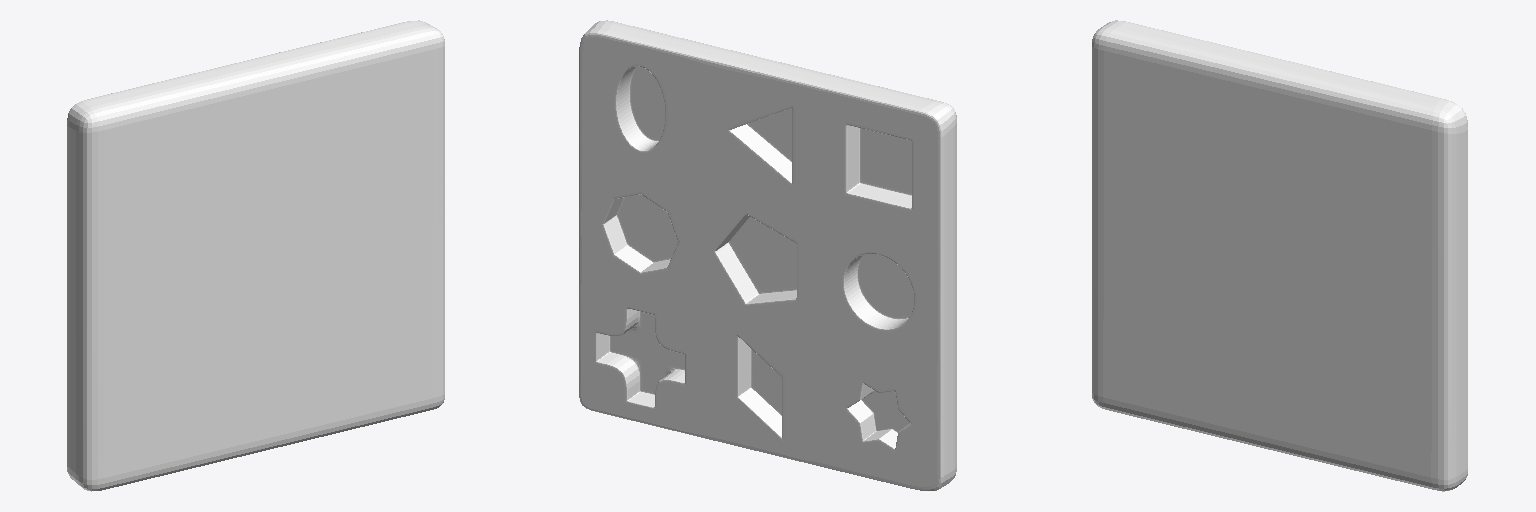
robot.urdf — cube.urdf:
<?xml version="0.0" ?>
<robot name="cube.urdf">
  <link name="baseLink">
    <contact>
      <lateral_friction value="1.0"/>
  <!--     <rolling_friction value="0.0"/>
      <spinning_friction value="0.01">
      <inertia_scaling value="3.0"/>
      <contact_cfm value="0.0"/>
      <contact_erp value="1.0"/> -->
    </contact>
    <inertial>
      <origin rpy="0 0 0" xyz="0 0 0"/>
       <mass value=".9"/>
       <inertia ixx="1" ixy="0" ixz="0" iyy="1" iyz="0" izz="1"/>
    </inertial>
    <visual>
      <origin rpy="0 0 0" xyz="0 0 0"/>
        <geometry>
      <mesh filename="base.obj" scale=".06 .06 .06"/>
        </geometry>
        <material name="white">
          <color rgba="1 1 1 1"/>
        </material>
    </visual>

    <collision>
      <geometry>
        <mesh filename="base-collision01.obj"/>
      </geometry>
      <origin rpy="0 0 0" xyz="0 0 0"/>
    </collision>

    <collision>
      <geometry>
        <mesh filename="base-collision02.obj"/>
      </geometry>
      <origin rpy="0 0 0" xyz="0 0 0"/>
    </collision>

    <collision>
      <geometry>
        <mesh filename="base-collision03.obj"/>
      </geometry>
      <origin rpy="0 0 0" xyz="0 0 0"/>
    </collision>

    <collision>
      <geometry>
        <mesh filename="base-collision04.obj"/>
      </geometry>
      <origin rpy="0 0 0" xyz="0 0 0"/>
    </collision>

    <collision>
      <geometry>
        <mesh filename="base-collision05.obj"/>
      </geometry>
      <origin rpy="0 0 0" xyz="0 0 0"/>
    </collision>

    <collision>
      <geometry>
        <mesh filename="base-collision06.obj"/>
      </geometry>
      <origin rpy="0 0 0" xyz="0 0 0"/>
    </collision>

<!--     <collision>
        <origin rpy="0 0 0" xyz="0 0 0"/>
        <geometry>
          <mesh filename="base.obj" scale=".06 .06 .06"/>
        </geometry>
    </collision> -->
  </link>
</robot>

--- Facts derived from the render (not from the file) ---
The picture shows the robot from 3 angles, left to right: view 1: azimuth 30°, elevation 25°; view 2: azimuth 150°, elevation 25°; view 3: azimuth 330°, elevation 25°; orthographic projection.
Model cube.urdf with 1 links and 0 joints (none), rooted at baseLink, posed all joints at 0.
Links seen in each view (by area): view 1: baseLink; view 2: baseLink; view 3: baseLink.
Boxes of the visible links, left/top/right/bottom form: baseLink: left=67, top=20, right=444, bottom=491; baseLink: left=579, top=20, right=956, bottom=490; baseLink: left=1092, top=20, right=1467, bottom=491.
Size in the robot's own frame: 1.22 by 0.12 by 1.22 metres.
1 mesh visuals loaded from 1 distinct referenced files (1 OBJ).